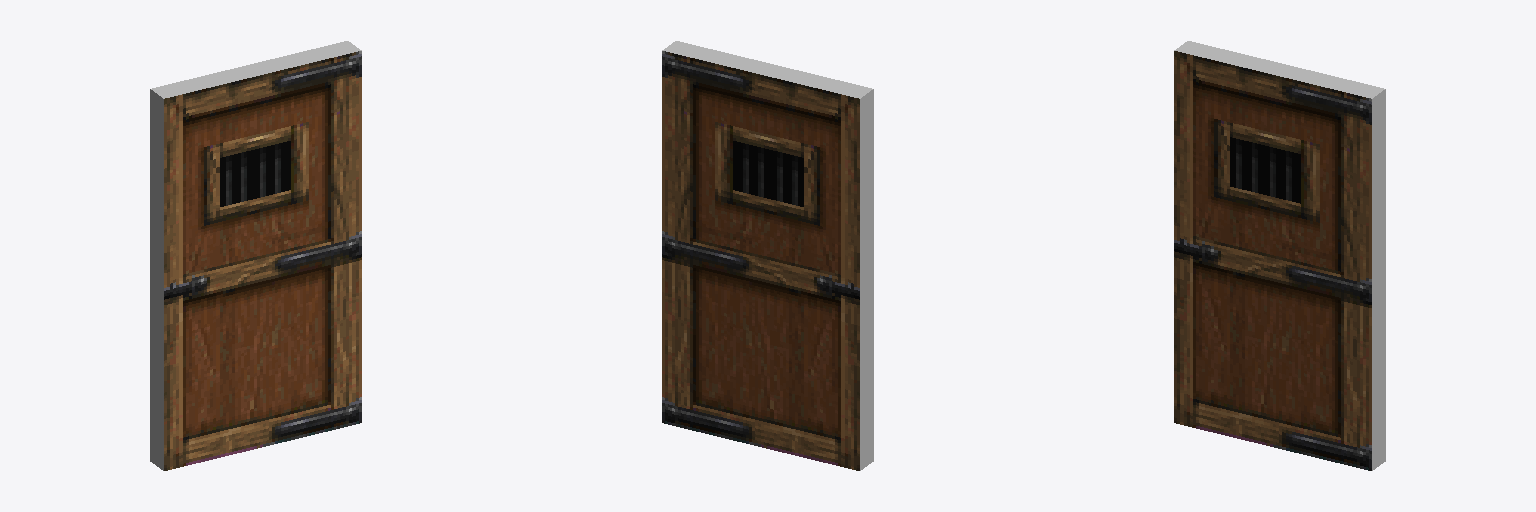
3 renders of one model, left to right at view 1: azimuth 30°, elevation 25°; view 2: azimuth 150°, elevation 25°; view 3: azimuth 330°, elevation 25°, orthographic.
Visible parts, largest first — view 1: model55003-node_model55003; view 2: model55003-node_model55003; view 3: model55003-node_model55003.
Boxes of the visible parts, <box> form: model55003-node_model55003: <box>150,41,361,470</box>; model55003-node_model55003: <box>662,41,873,470</box>; model55003-node_model55003: <box>1174,41,1385,470</box>.
Bounding box in the file's own units: 1.25 × 2.25 × 0.15.
Materials: 2 (1 with a texture image).